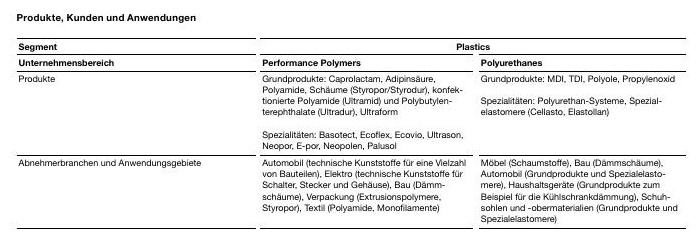table: (0, 0, 699, 238)
